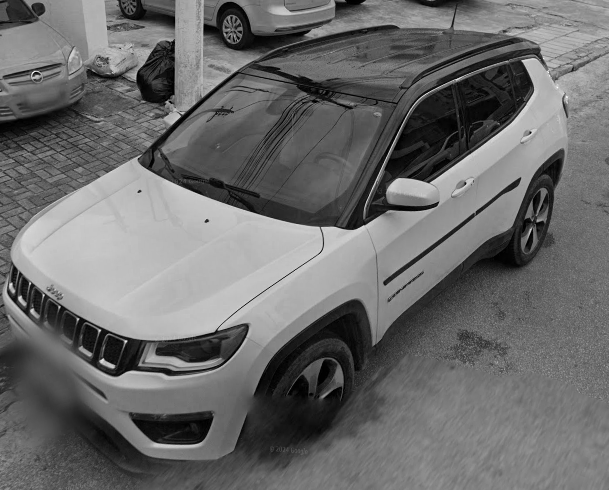car: (3, 27, 569, 463)
